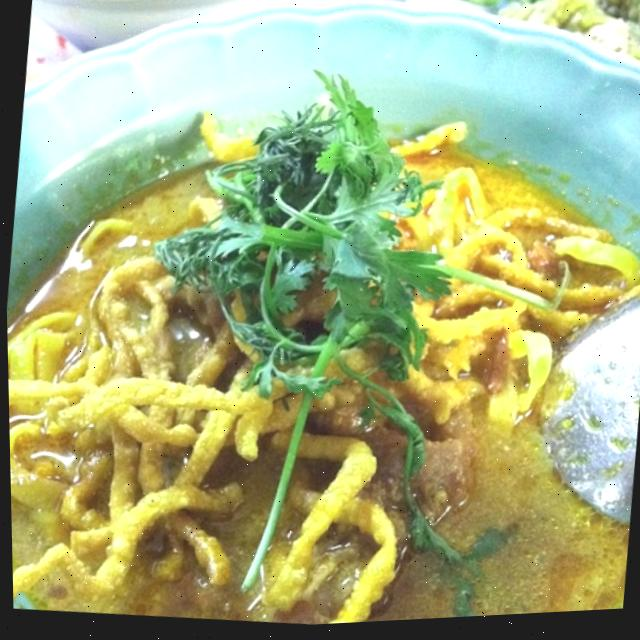面条主食: (2, 74, 635, 640)
